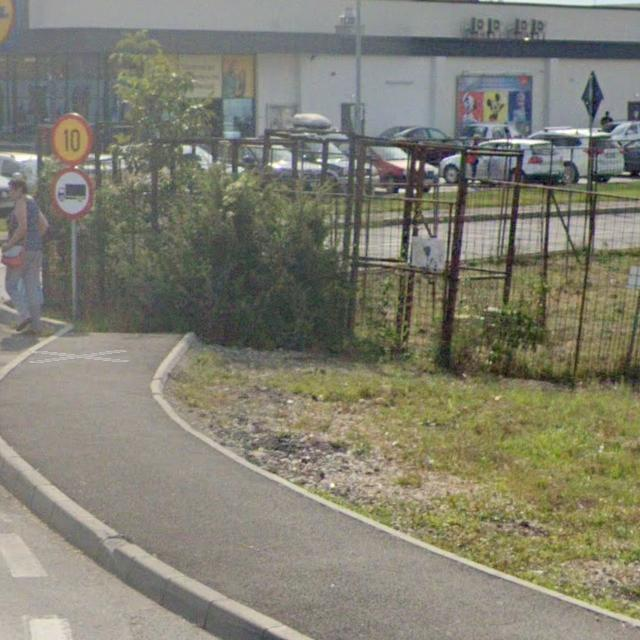forb_speed_over_10: (50, 112, 92, 168)
